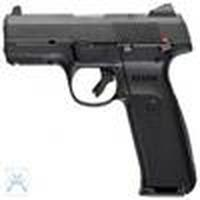gun: (3, 5, 200, 199)
